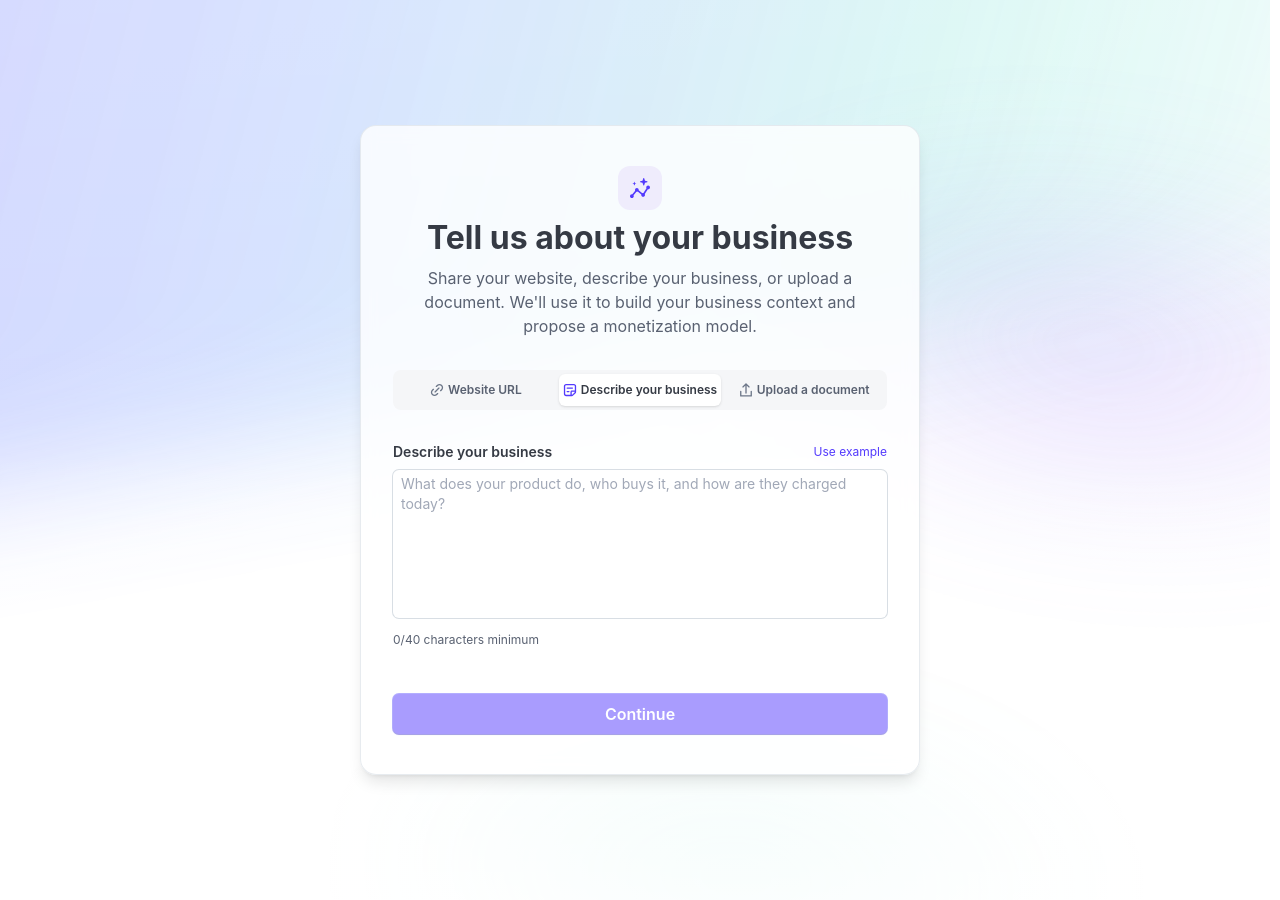
Test: IntroScreen › fills in the exact example description when "Use example" is clicked
The width and height of the screenshot is (1280, 900).
Click the button "Use example".
click(850, 452)  # box [814, 444, 887, 460]
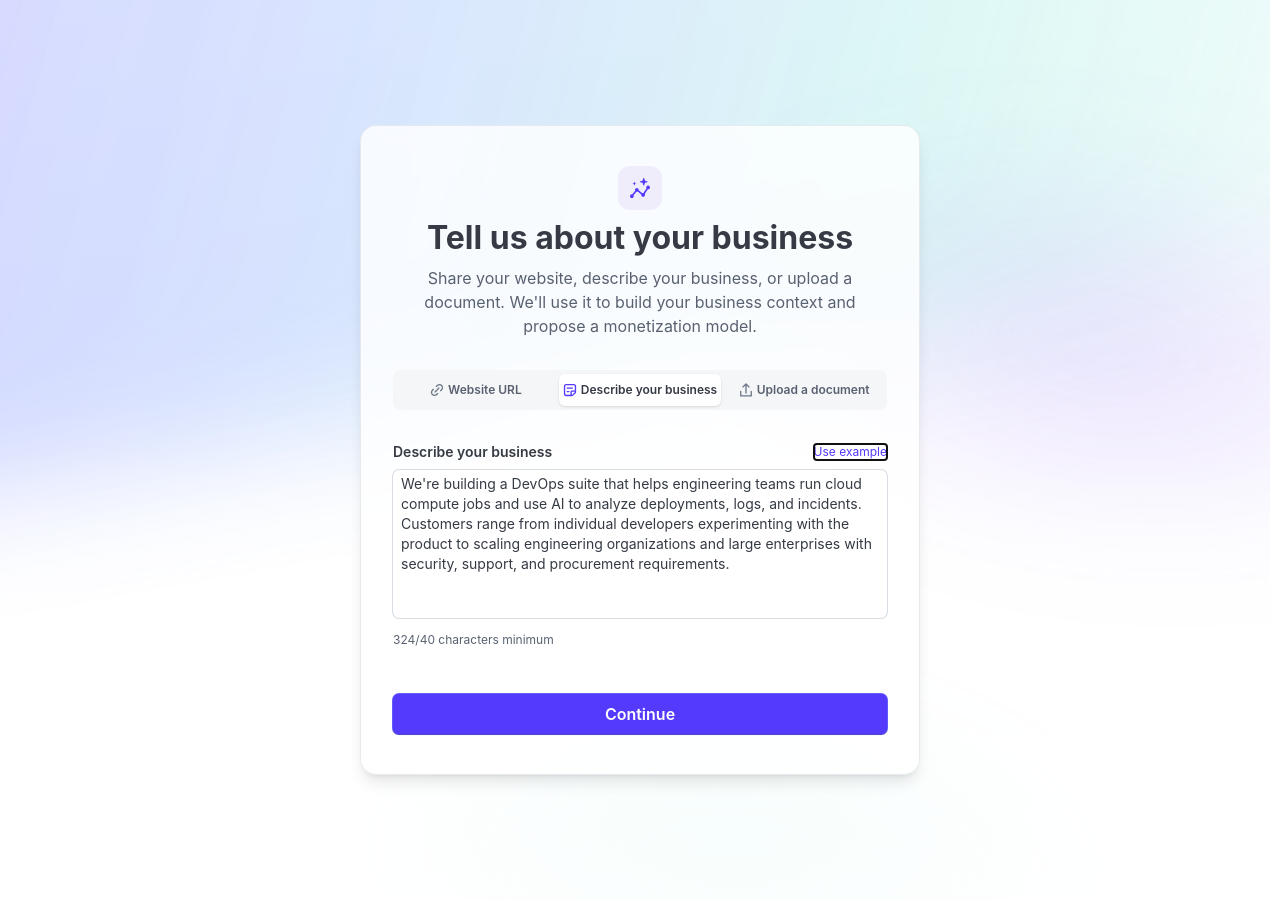
Check: the text box labelled "Describe your business" holds "We're building a DevOps suite that helps engineering teams run cloud compute jobs and use AI to analyze deployments, logs, and incidents. Customers range from i", box [393, 470, 887, 618]
